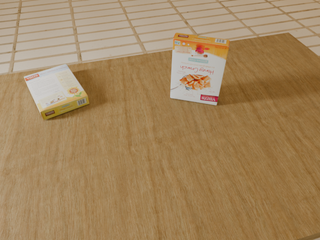box: (170, 33, 230, 105), (24, 64, 89, 120)
